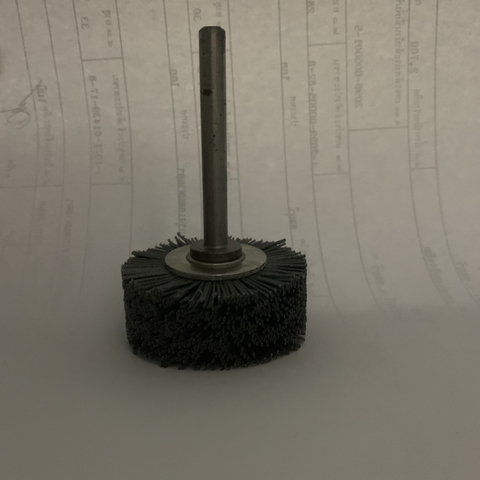Wheel Brush: (91, 39, 329, 372), (119, 19, 339, 373), (128, 13, 310, 393)
